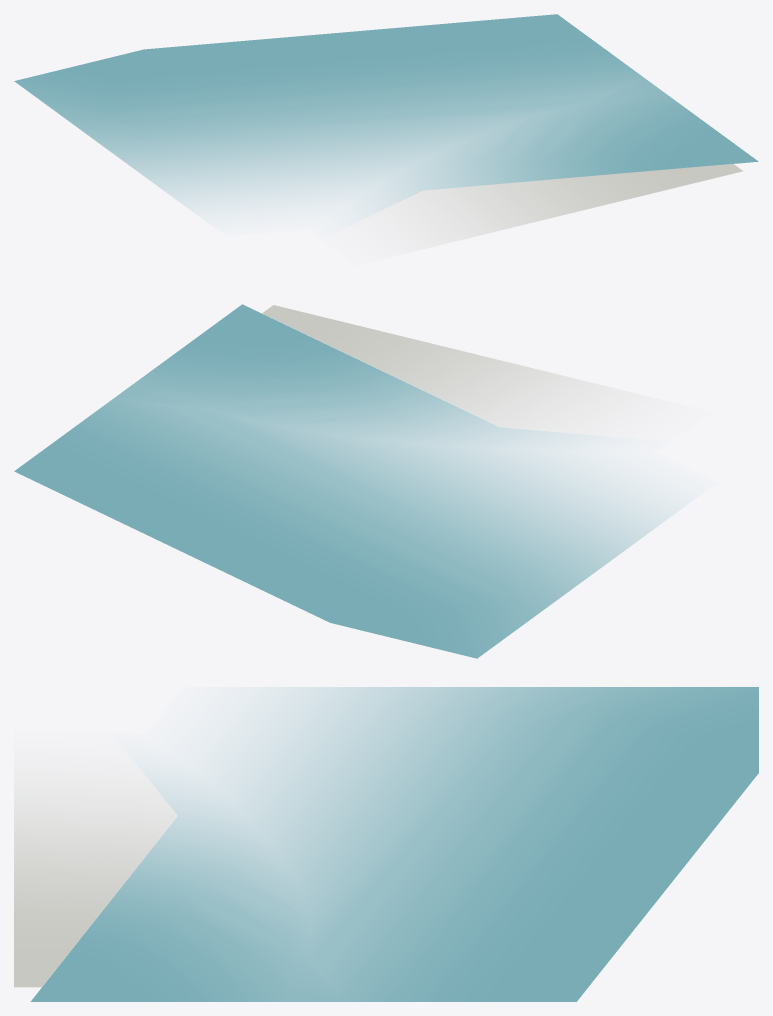
3 renders of one model, top to bottom at view 1: azimuth 30°, elevation 25°; view 2: azimuth 150°, elevation 25°; view 3: azimuth 270°, elevation 25°, orthographic. The views are drawn at different scales.
Parts seen in each view (by area): view 1: city; view 2: city; view 3: city.
Boxes of the visible parts, x1,y1,x2,y2 form: city: [14, 14, 758, 251]; city: [14, 304, 677, 658]; city: [14, 687, 758, 1001].
Size of the model in its own units: 500 by 0.18 by 500.
